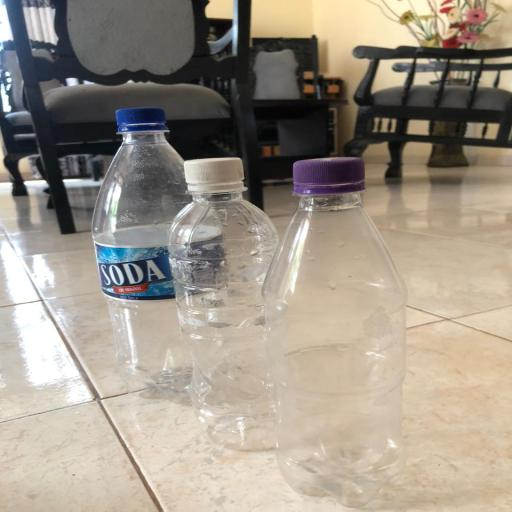waste: (262, 157, 438, 508), (166, 155, 316, 461), (86, 104, 226, 401)
